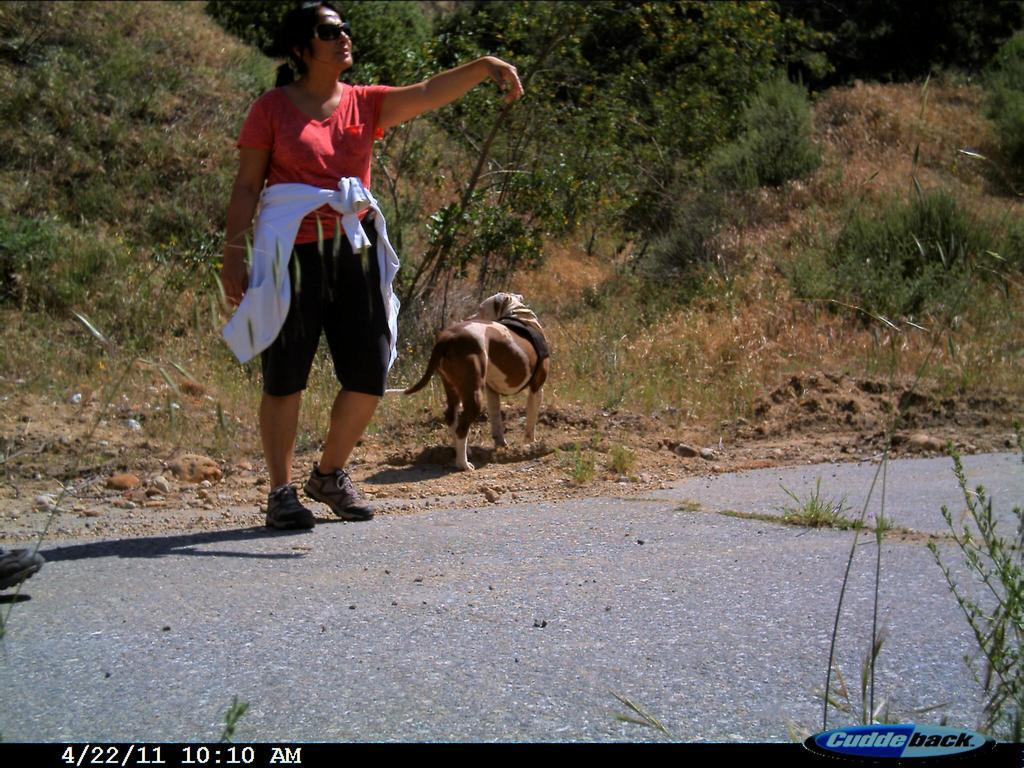dog: (390, 282, 574, 496)
